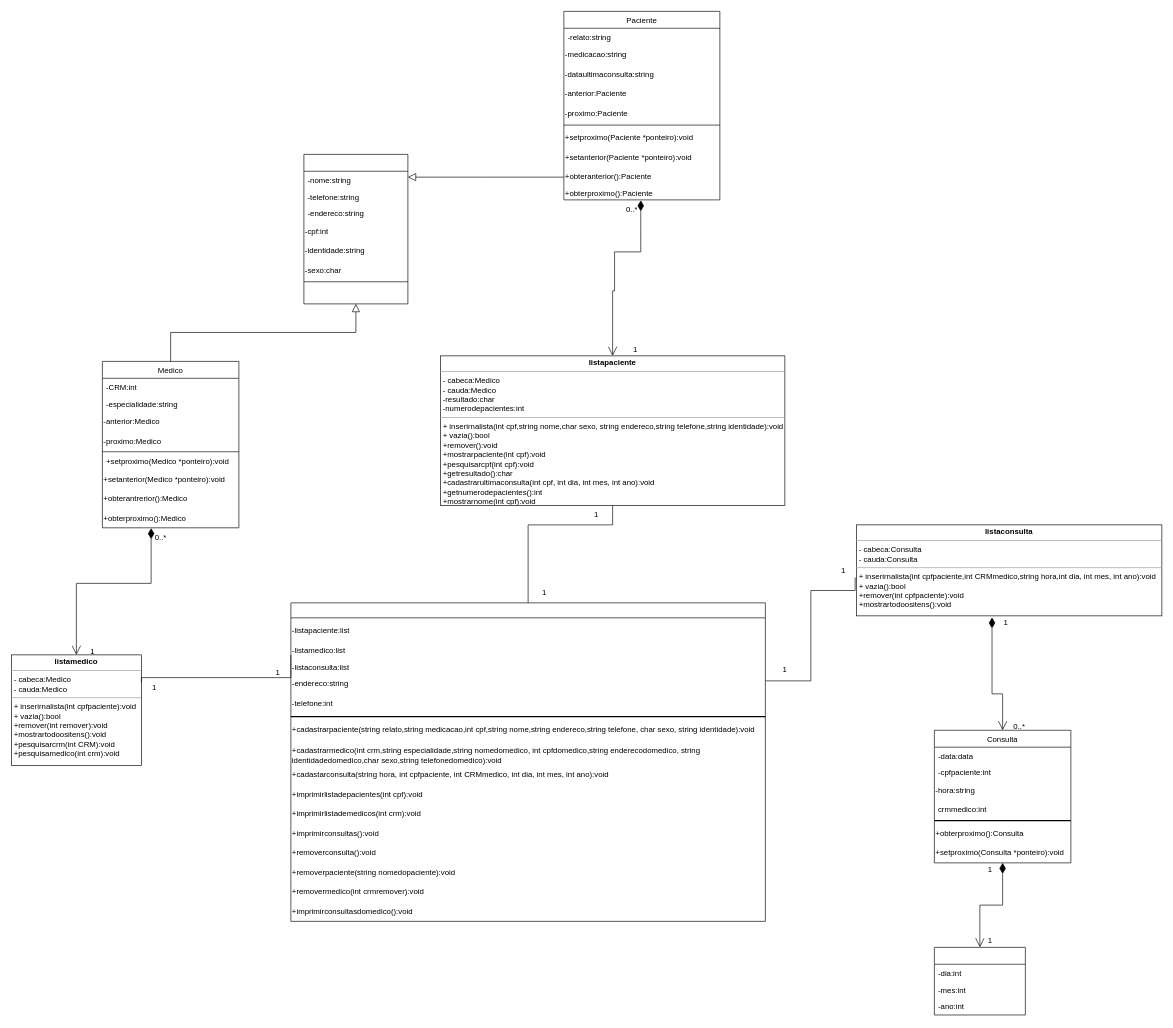
Some shapes in this 1173 by 1028 pixel diagram are drawn without their labels. The box of each missing label's shape, as (x1, y1, x2, y2) in pixels:
Consultorio: (290, 602, 765, 921)
Data: (934, 947, 1025, 1015)
Pessoa: (303, 154, 408, 304)
